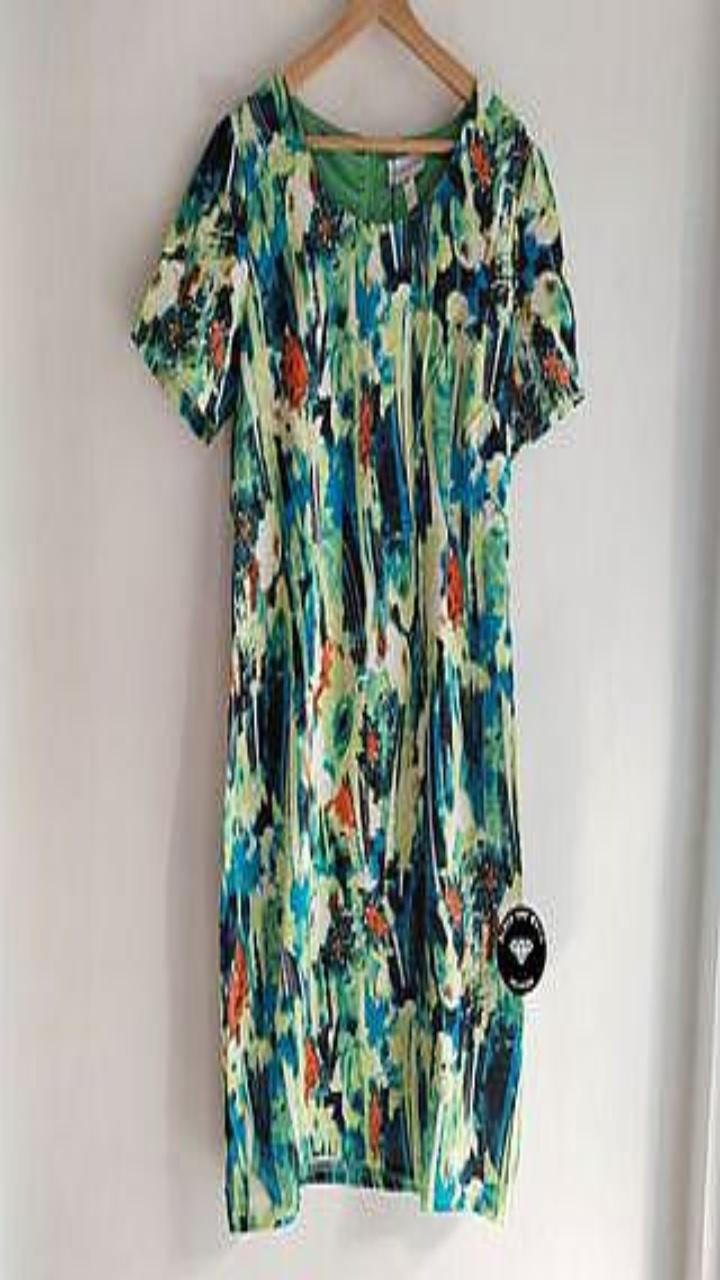T-Shirt: (131, 72, 583, 1230)
